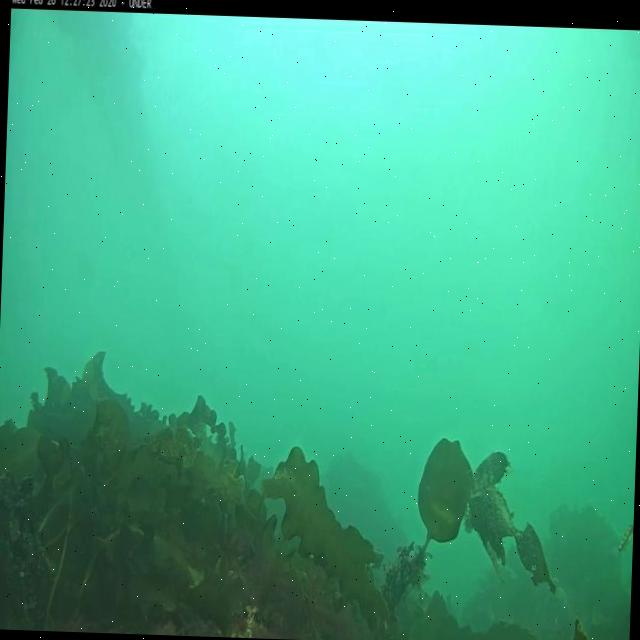fish: (617, 522, 633, 556)
